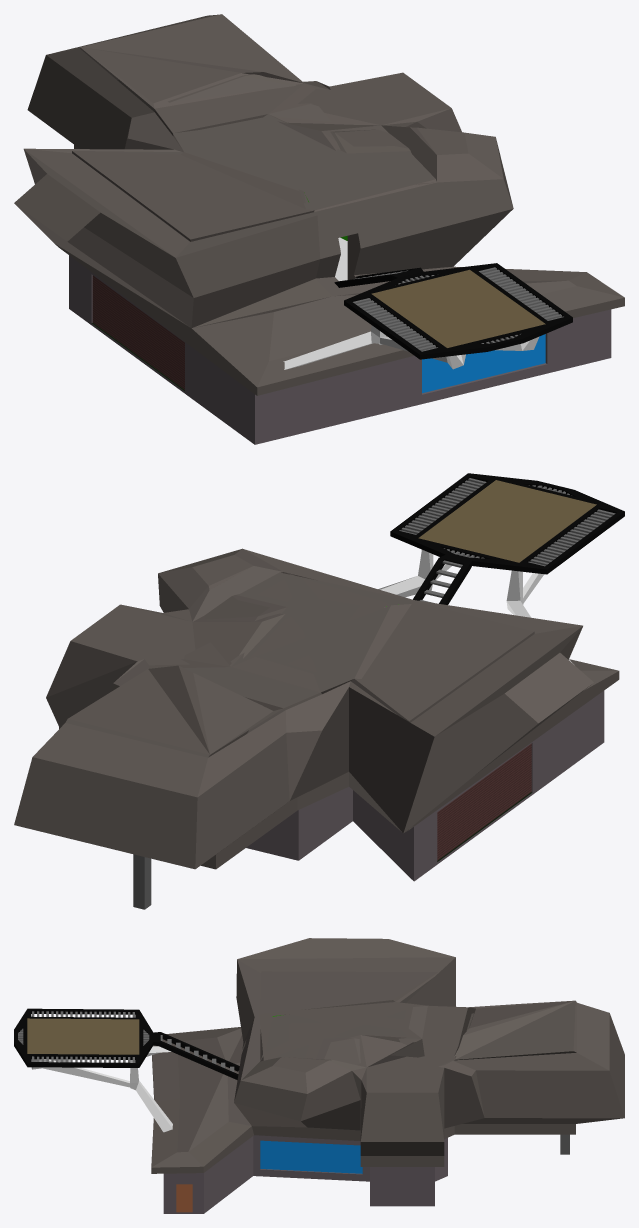
The model's file is 3д_model_Дом_no-graff.fbx.
The picture shows the model from 3 angles, top to bottom: view 1: azimuth 30°, elevation 25°; view 2: azimuth 150°, elevation 25°; view 3: azimuth 270°, elevation 25°; orthographic projection. The views are drawn at different scales.
Parts seen in each view (by area): view 1: Floor2, Roof, Floor1, Верталётка, ГаражнаяДверь, Window.002; view 2: Floor2, Roof, Верталётка, Floor1, ГаражнаяДверь, Колона; view 3: Floor2, Roof, Верталётка, Floor1, Window.
Boxes of the visible parts, x1,y1,x2,y2 form: Floor2: [14, 14, 624, 395]; Roof: [72, 14, 503, 241]; Floor1: [69, 255, 611, 444]; Верталётка: [283, 263, 572, 369]; ГаражнаяДверь: [92, 275, 184, 389]; Window.002: [422, 334, 545, 393]; Floor2: [14, 549, 619, 869]; Roof: [65, 548, 534, 757]; Верталётка: [378, 473, 624, 664]; Floor1: [246, 691, 604, 881]; ГаражнаяДверь: [437, 743, 531, 860]; Колона: [133, 854, 151, 909]; Floor2: [151, 938, 624, 1173]; Roof: [241, 971, 576, 1093]; Верталётка: [14, 1008, 239, 1132]; Floor1: [163, 1135, 447, 1213]; Window: [260, 1140, 362, 1173].
Size of the model in its own units: 17099 by 6431 by 27306.
